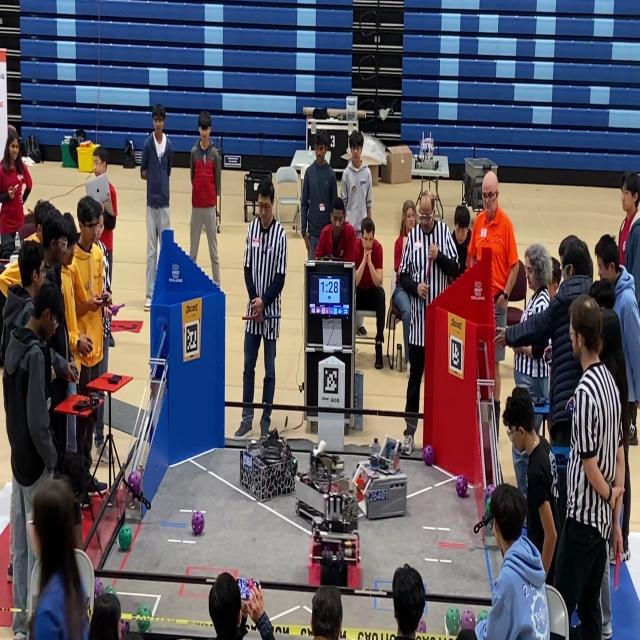artifact_green: (446, 607, 460, 635), (460, 609, 476, 630), (119, 526, 132, 551), (486, 497, 493, 534), (137, 604, 151, 618), (416, 618, 427, 634), (104, 585, 116, 596), (477, 610, 487, 623), (485, 497, 491, 518), (486, 484, 495, 498), (120, 619, 126, 639), (488, 519, 493, 534), (292, 457, 297, 472)
artifact_purple: (191, 510, 205, 535), (128, 470, 141, 493), (461, 610, 475, 629), (456, 475, 467, 497), (423, 446, 434, 466), (95, 578, 104, 598), (417, 618, 426, 632), (120, 619, 126, 639), (486, 485, 495, 498)
